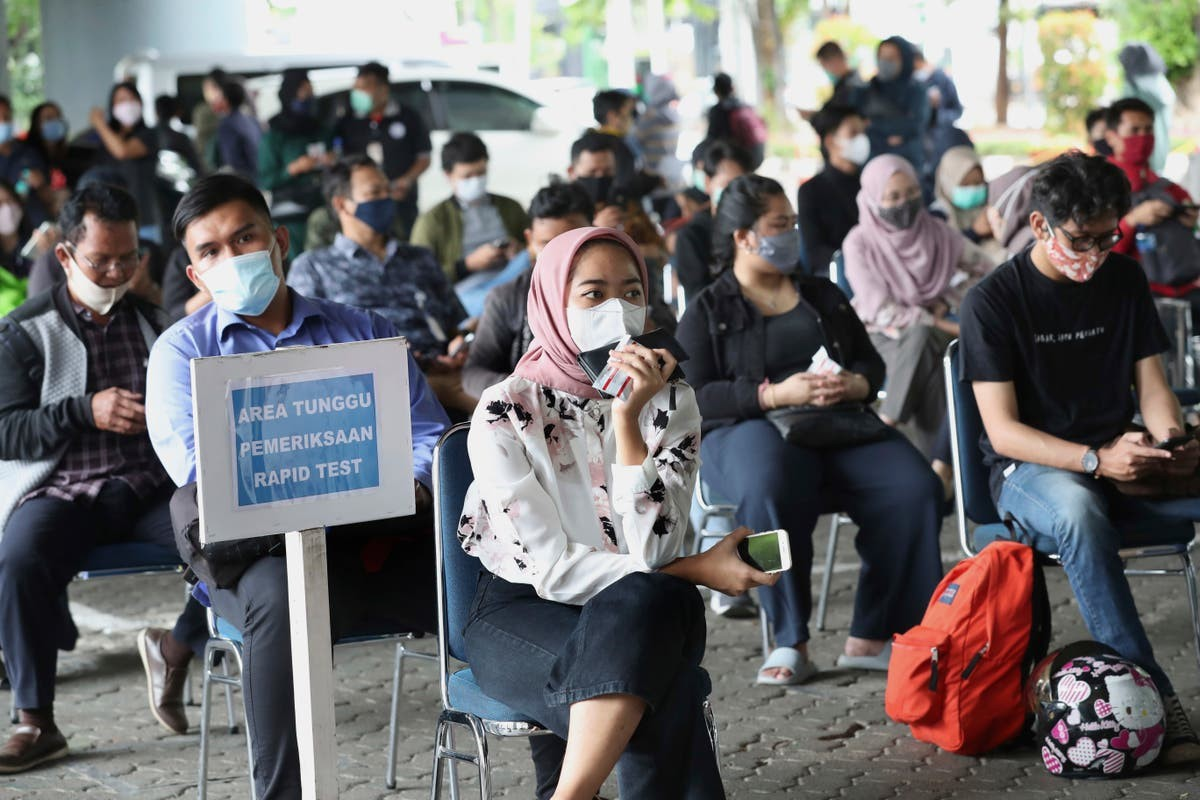Face_Shield: (568, 273, 649, 366), (747, 213, 804, 278), (1054, 224, 1108, 284), (354, 176, 400, 231), (876, 183, 920, 231), (451, 160, 493, 209), (1117, 116, 1152, 170)
mask_weared_incorrectly: (68, 240, 135, 317)
with_mask: (193, 224, 276, 316)
